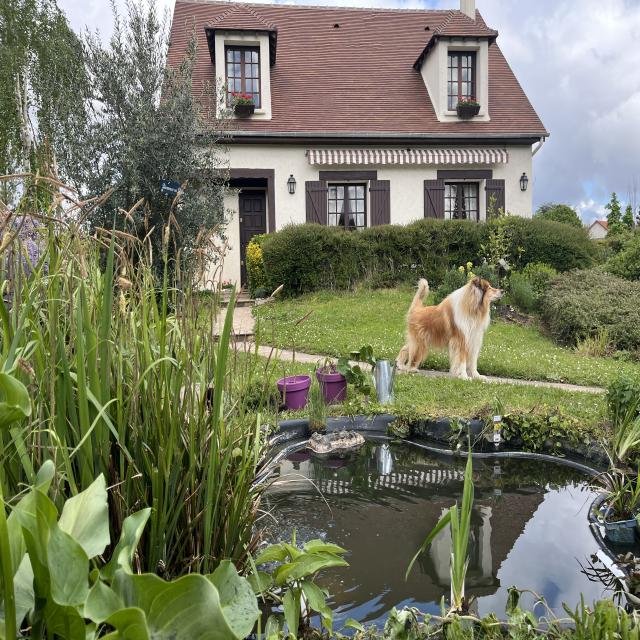Dog: (394, 267, 509, 392)
